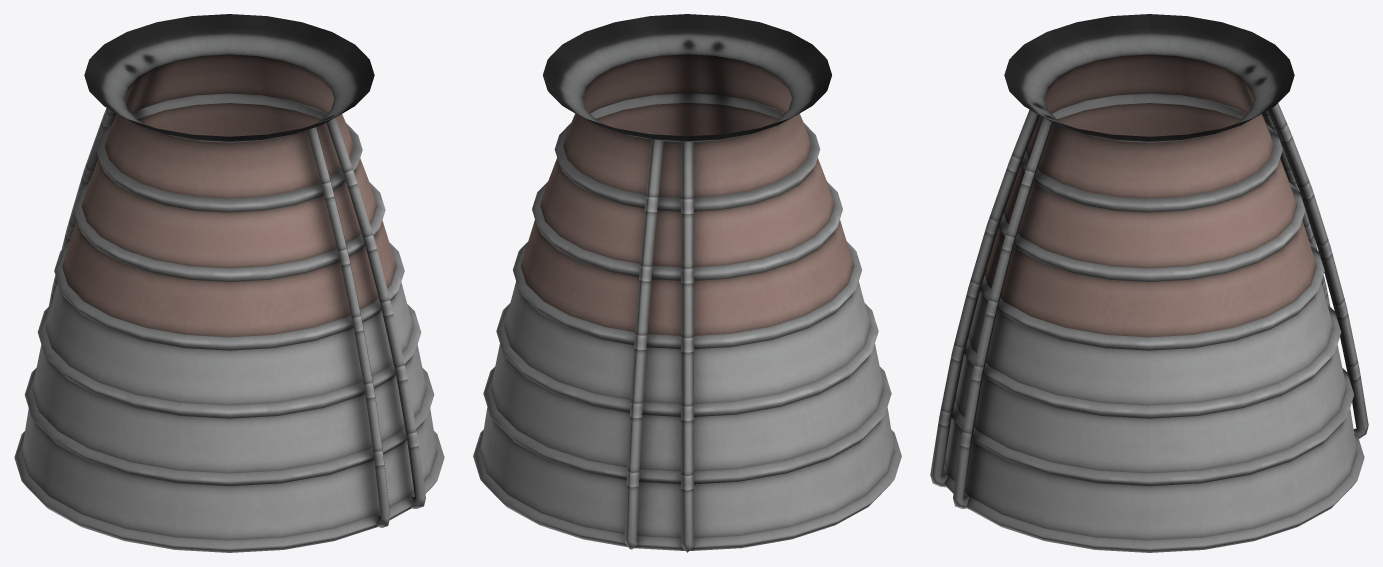
File: RLV_1_Engine_2_Nozzle.obj
3 views of the same model, side by side, from view 1: azimuth 30°, elevation 25°; view 2: azimuth 150°, elevation 25°; view 3: azimuth 270°, elevation 25° (orthographic).
Parts seen in each view (by area): view 1: RLV_1_Engine_2_Nozzle; view 2: RLV_1_Engine_2_Nozzle; view 3: RLV_1_Engine_2_Nozzle.
Part boxes in pixels (left/top/right/bottom): RLV_1_Engine_2_Nozzle: left=14, top=14, right=444, bottom=552; RLV_1_Engine_2_Nozzle: left=473, top=14, right=901, bottom=552; RLV_1_Engine_2_Nozzle: left=930, top=14, right=1368, bottom=552.
Bounding box in the file's own units: 1.67 × 1.66 × 1.7.
